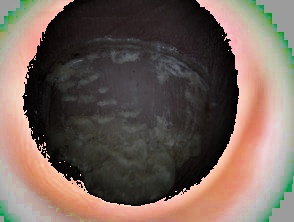Nail_psoriasis: (16, 16, 247, 222)
